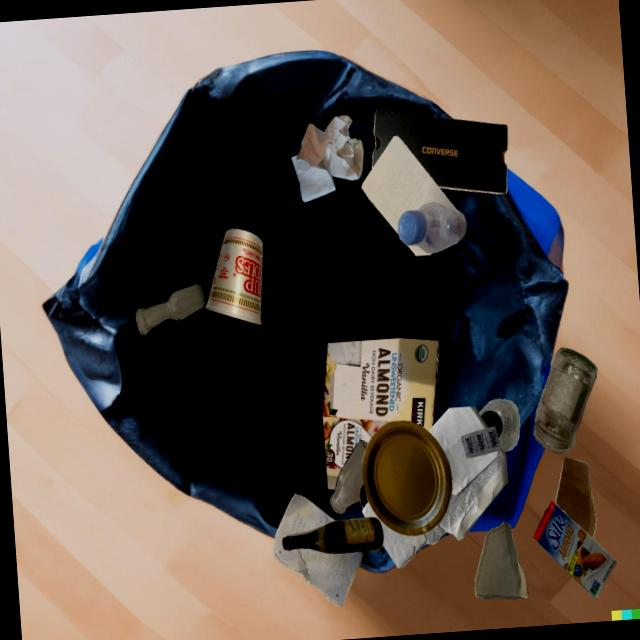cardboard: (322, 338, 439, 489), (372, 110, 508, 193), (533, 500, 616, 599), (474, 521, 529, 599), (555, 457, 596, 538)
glass: (533, 347, 597, 453), (282, 516, 383, 553), (135, 283, 204, 335), (329, 440, 367, 515), (359, 483, 368, 508)
paper: (362, 406, 507, 568), (362, 420, 451, 535), (273, 493, 362, 607), (361, 135, 457, 234), (291, 115, 363, 202)
plastic: (397, 201, 466, 253), (478, 398, 519, 451), (460, 426, 501, 457)
trash: (204, 228, 263, 325)
